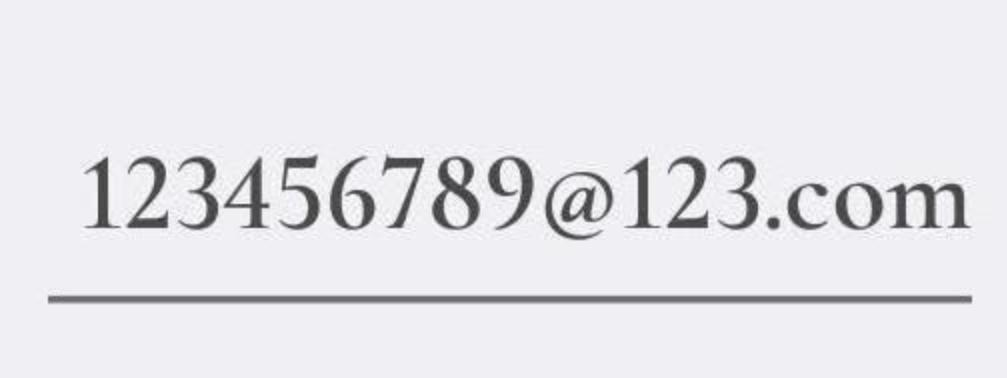EditText: (1, 1, 1006, 377)
